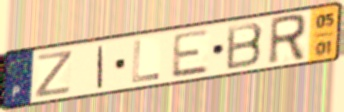B: (224, 21, 266, 73)
E: (170, 27, 212, 80)
I: (95, 44, 106, 90)
L: (130, 39, 162, 85)
R: (265, 12, 308, 68)
Z: (33, 48, 76, 100)
